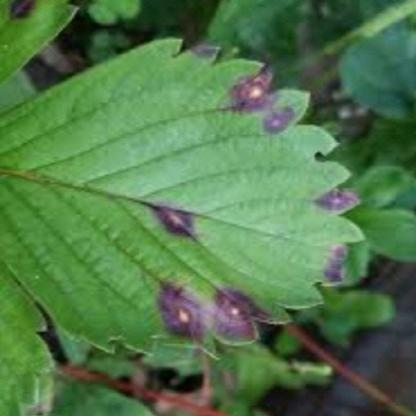Strawberry_Leaf_Spot: (0, 37, 371, 362)
